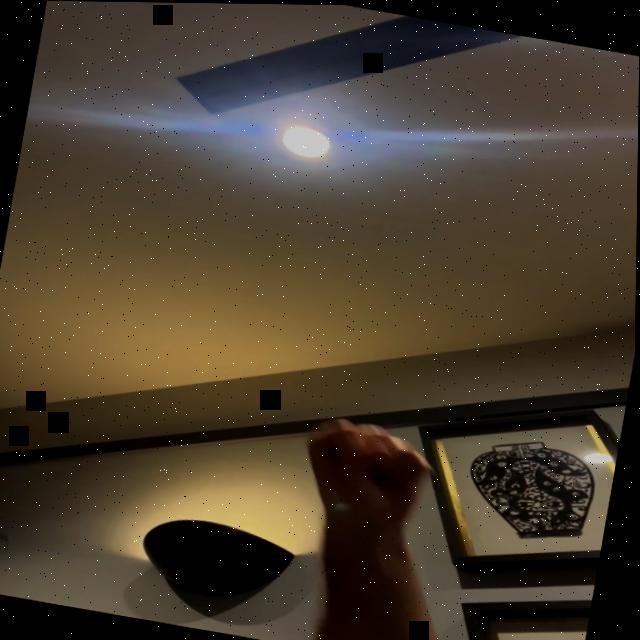Rock: (299, 415, 440, 518)
